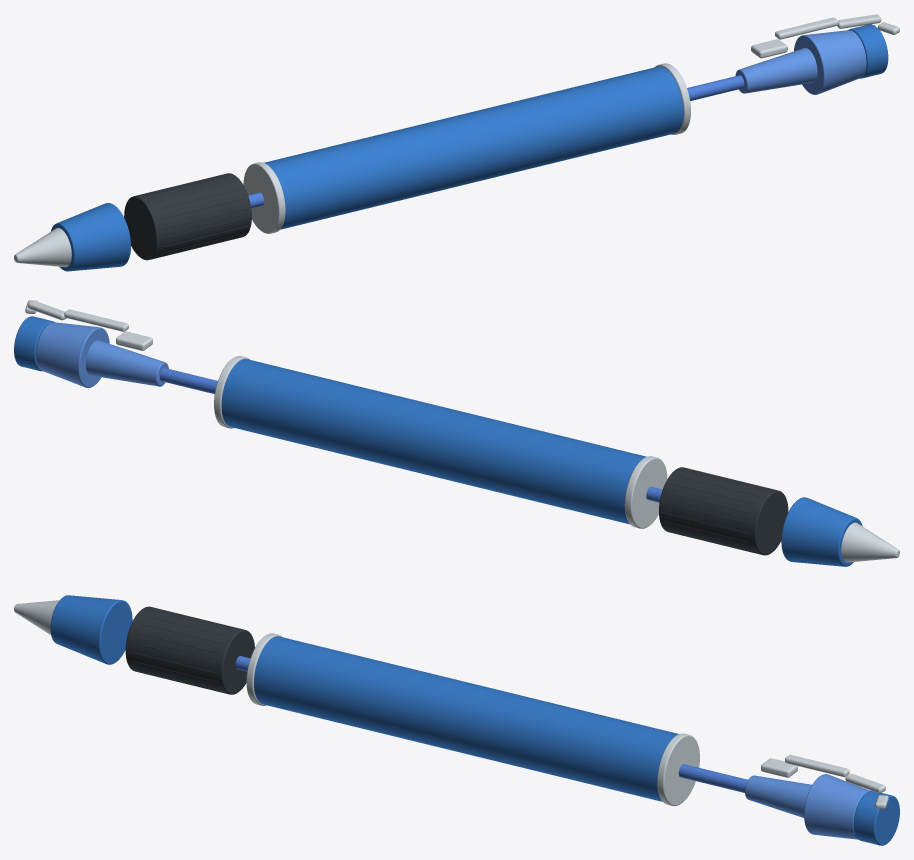
Rendered from lapicero-exploded.glb.
3 renders of one model, top to bottom at view 1: azimuth 30°, elevation 25°; view 2: azimuth 150°, elevation 25°; view 3: azimuth 330°, elevation 25°, orthographic.
Visible parts, largest first — view 1: Barril principal, Agarre estriado, Cono frontal, Tapa trasera, Émbolo del pulsador, Banda frontal, Punta cónica de escritura, Corona pulsable, Cartucho de tinta, Banda trasera, Clip · tramo recto; view 2: Barril principal, Agarre estriado, Cono frontal, Tapa trasera, Émbolo del pulsador, Banda frontal, Punta cónica de escritura, Corona pulsable, Cartucho de tinta, Banda trasera, Clip · tramo recto; view 3: Barril principal, Agarre estriado, Cono frontal, Tapa trasera, Banda trasera, Corona pulsable, Émbolo del pulsador, Cartucho de tinta, Punta cónica de escritura, Banda frontal, Clip · tramo recto.
Part boxes in pixels (x1,y1,x2,y2): Barril principal: (264, 66, 683, 229); Agarre estriado: (124, 173, 251, 260); Cono frontal: (51, 203, 130, 271); Tapa trasera: (794, 30, 866, 94); Émbolo del pulsador: (735, 48, 817, 93); Banda frontal: (243, 162, 285, 233); Punta cónica de escritura: (14, 228, 71, 267); Corona pulsable: (848, 24, 888, 78); Cartucho de tinta: (248, 75, 744, 208); Banda trasera: (655, 63, 690, 134); Clip · tramo recto: (775, 17, 838, 39); Barril principal: (221, 359, 646, 524); Agarre estriado: (659, 467, 788, 555); Cono frontal: (781, 497, 862, 566); Tapa trasera: (36, 322, 109, 387); Émbolo del pulsador: (85, 340, 168, 386); Banda frontal: (624, 456, 667, 528); Punta cónica de escritura: (841, 522, 899, 562); Corona pulsable: (14, 316, 54, 371); Cartucho de tinta: (160, 368, 662, 502); Banda trasera: (214, 356, 250, 428); Clip · tramo recto: (64, 309, 128, 331); Barril principal: (254, 636, 678, 801); Agarre estriado: (125, 606, 254, 694); Cono frontal: (50, 595, 132, 664); Tapa trasera: (804, 774, 870, 839); Banda trasera: (657, 733, 699, 806); Corona pulsable: (853, 790, 899, 845); Émbolo del pulsador: (745, 775, 811, 817); Cartucho de tinta: (235, 656, 747, 792); Punta cónica de escritura: (14, 600, 59, 634); Banda frontal: (246, 633, 282, 705); Clip · tramo recto: (785, 754, 849, 777).
Size of the model in its own units: 245 by 19.6 by 17.6.
